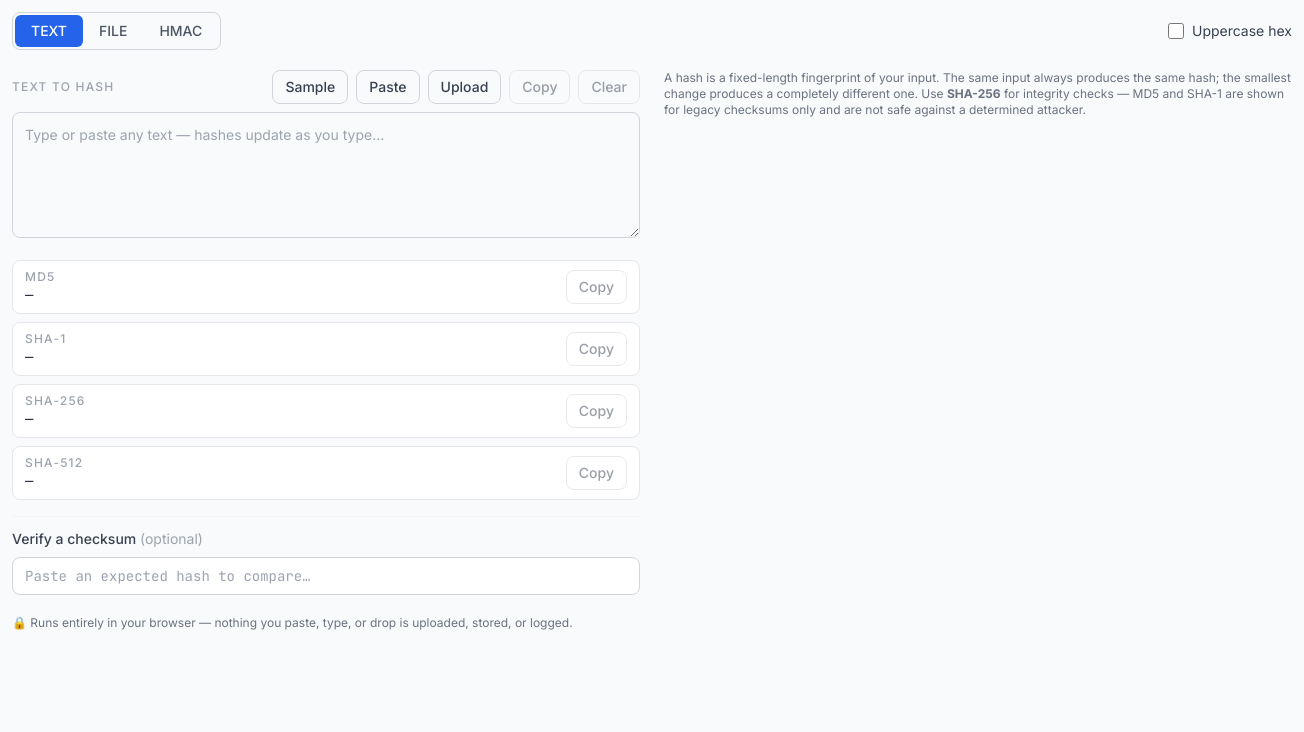
Test: HashGenerator › computes correct digests for typed text
Type "abc" into the text box named "Text to hash" at (326, 175), box [12,112,640,238]
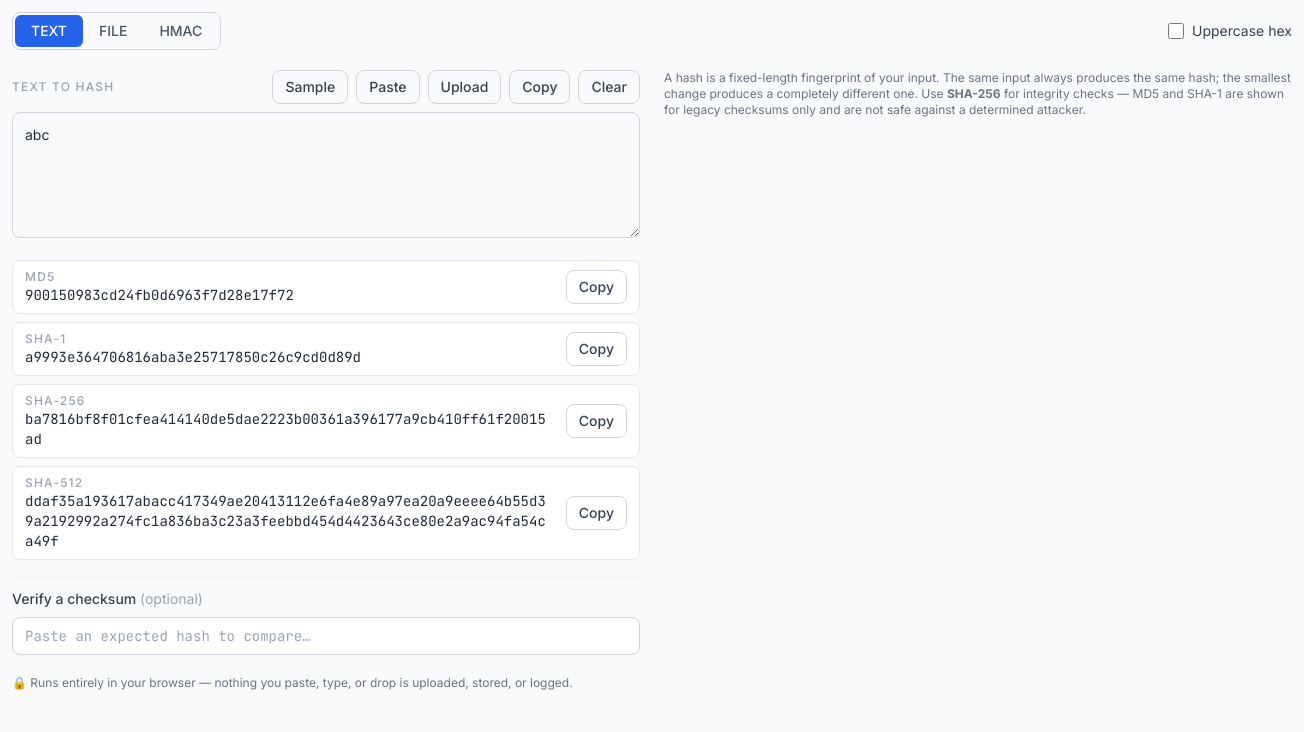
Check: the text "ba7816bf8f01cfea414140de5dae2223b00361a396177a9cb410ff61f20015ad" is shown, box [25,409,554,449]
